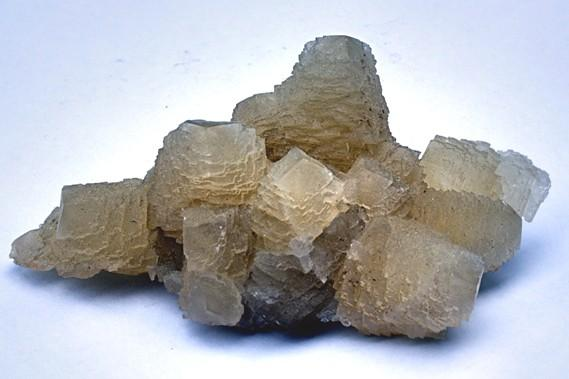calcite: (10, 36, 552, 338)
